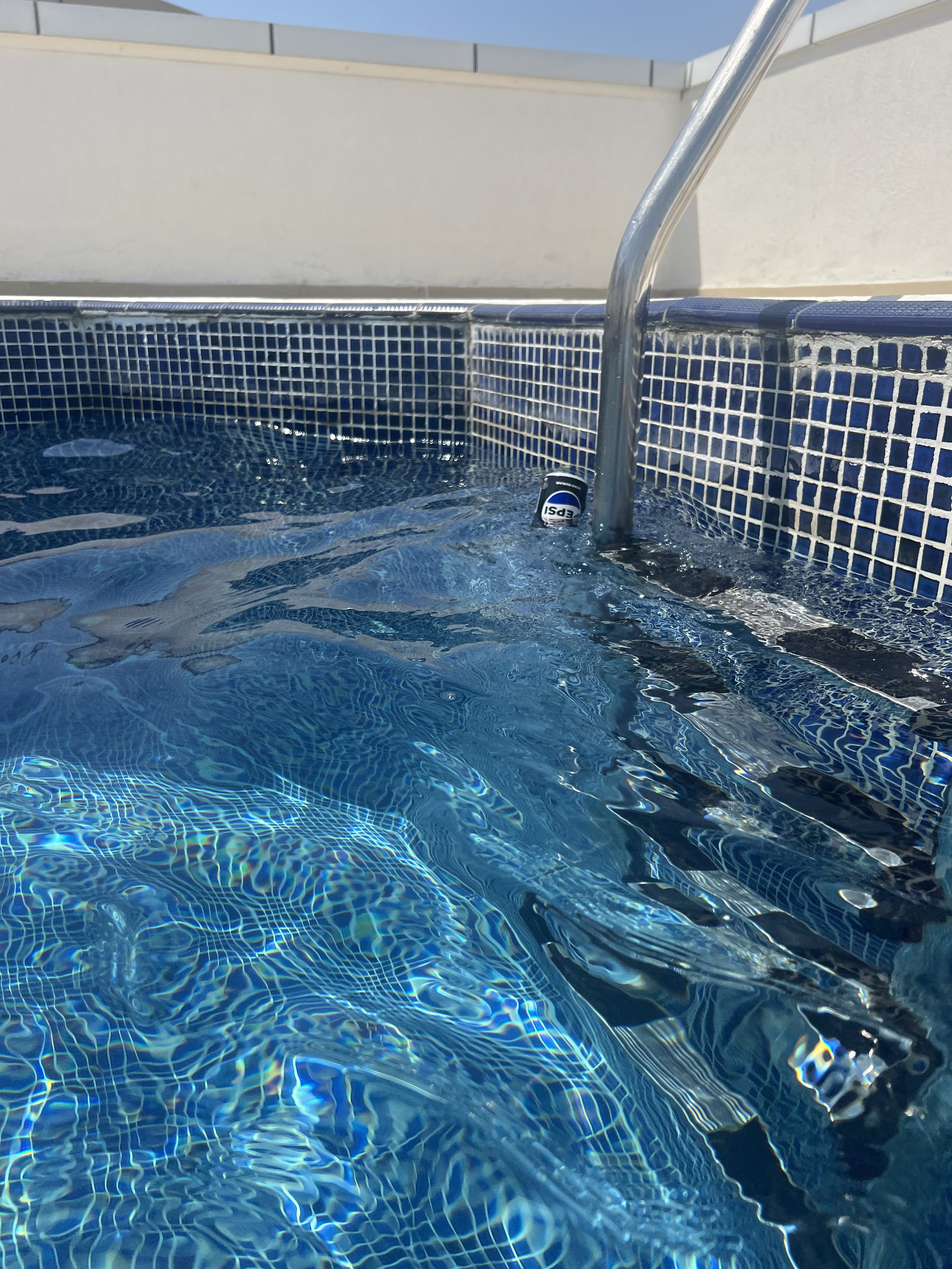debris: (531, 465, 591, 550)
